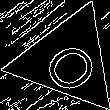O_NE: (32, 27, 103, 93)
